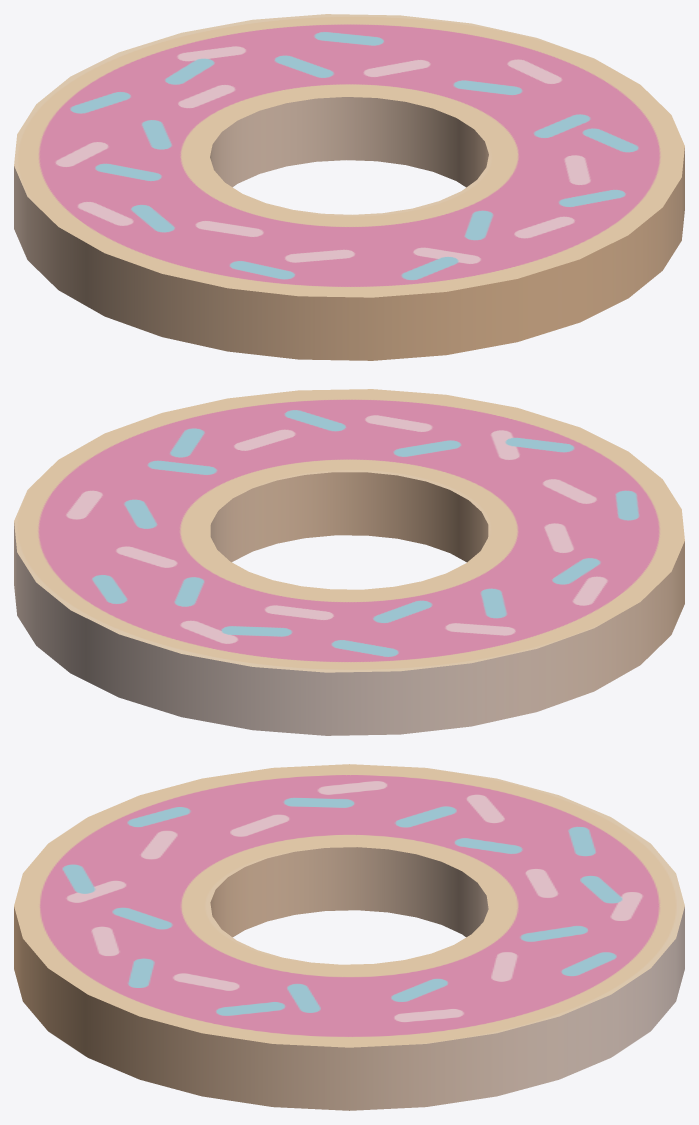
The model's file is Donat.FBX.
The picture shows the model from 3 angles, top to bottom: view 1: azimuth 30°, elevation 25°; view 2: azimuth 150°, elevation 25°; view 3: azimuth 270°, elevation 25°; orthographic projection.
Parts seen in each view (by area): view 1: Donat; view 2: Donat; view 3: Donat.
Part boxes in pixels (x1,y1,x2,y2): Donat: (14,14,684,360); Donat: (14,389,684,735); Donat: (14,764,684,1110).
Size of the model in its own units: 67.43 by 7 by 67.43.
1 material, 1 textured.
